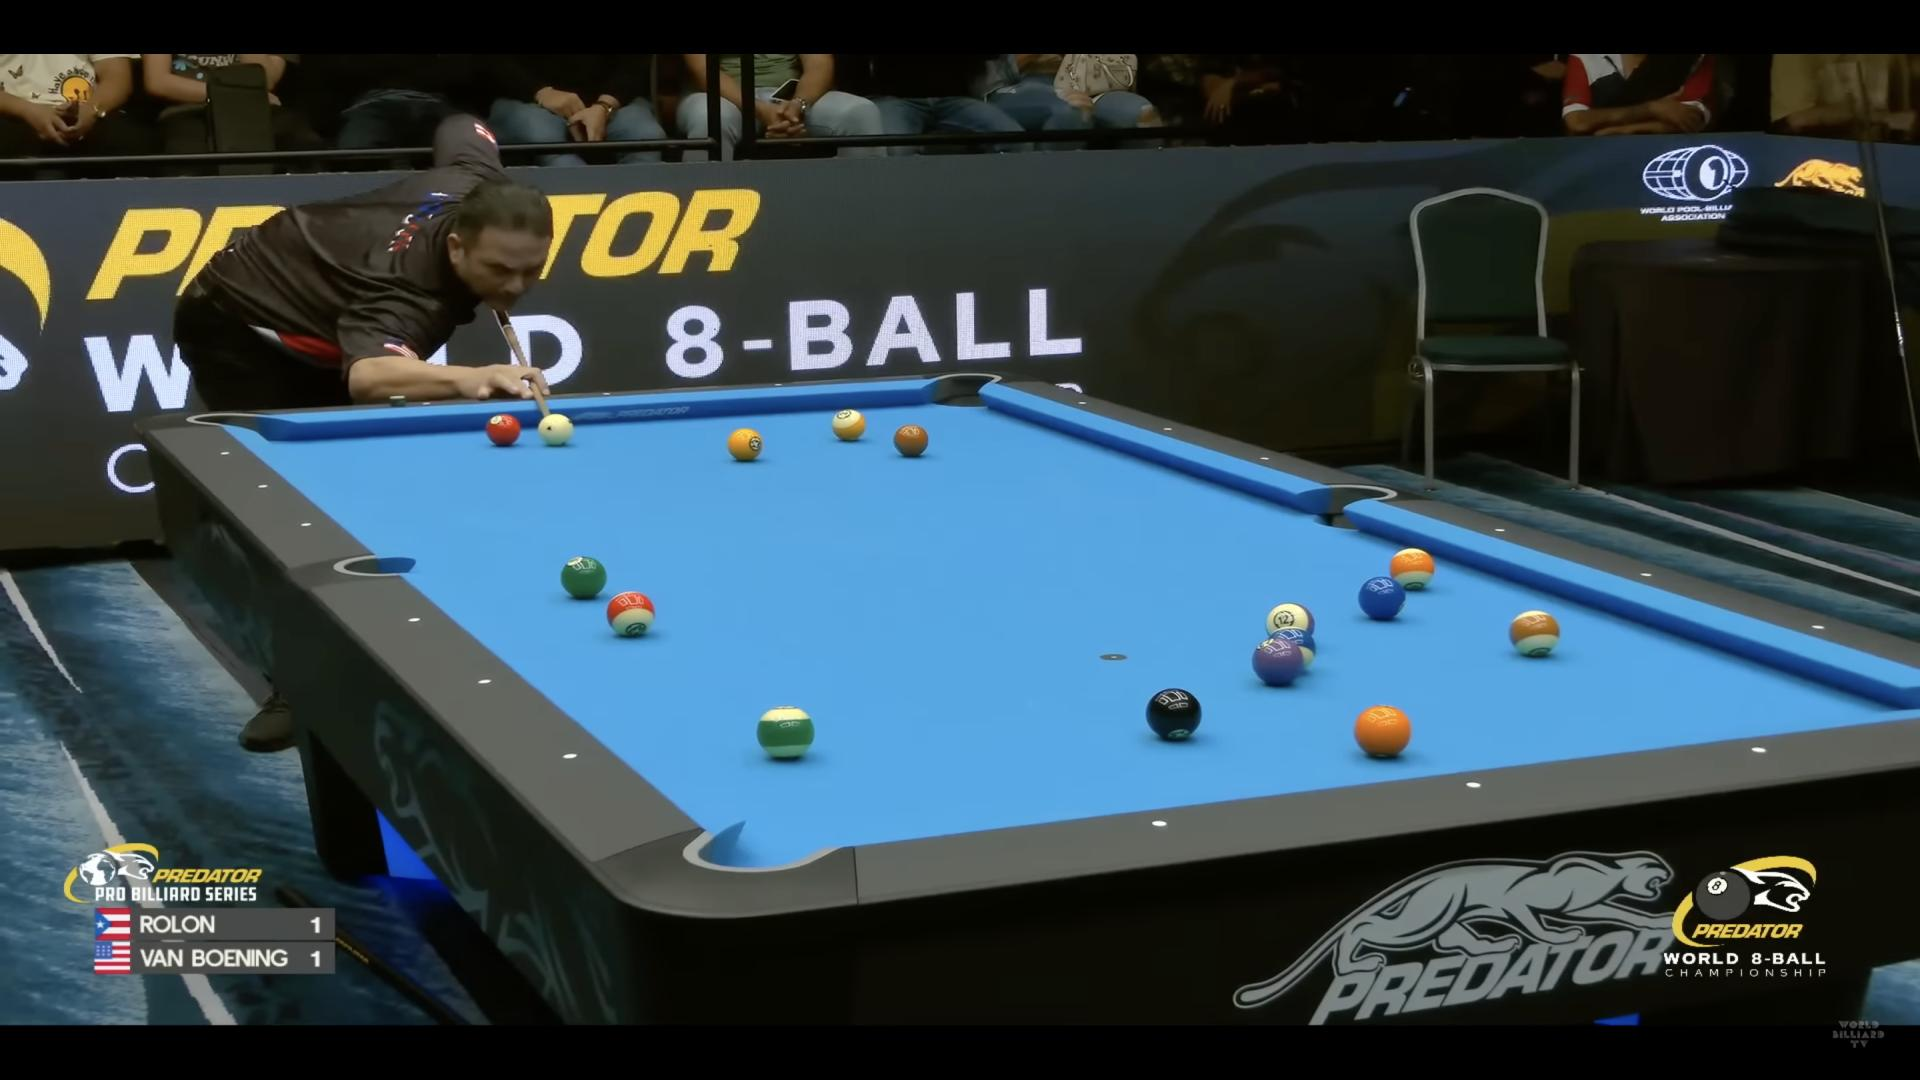Black: (1145, 688, 1203, 738)
Cue: (538, 414, 574, 447)
Dot: (1462, 775, 1486, 795), (1146, 812, 1168, 832), (1749, 741, 1771, 761), (562, 750, 576, 762), (479, 675, 492, 687), (407, 615, 421, 626), (256, 480, 269, 492), (219, 448, 232, 460), (1494, 524, 1506, 535), (301, 520, 313, 531), (1813, 622, 1825, 633), (1640, 568, 1652, 579), (421, 398, 433, 409), (773, 378, 785, 389), (601, 389, 612, 398), (1079, 400, 1087, 407), (1164, 425, 1172, 433), (1261, 455, 1269, 463)
Solid: (1354, 704, 1411, 757), (1250, 638, 1303, 684), (1358, 576, 1406, 618), (560, 556, 607, 597), (727, 429, 764, 462), (893, 425, 928, 456), (485, 414, 521, 446)
Striped: (757, 705, 815, 757), (1509, 609, 1560, 655), (605, 591, 654, 637), (1267, 626, 1315, 669), (1389, 547, 1435, 589), (1266, 604, 1316, 637), (832, 409, 865, 440)
